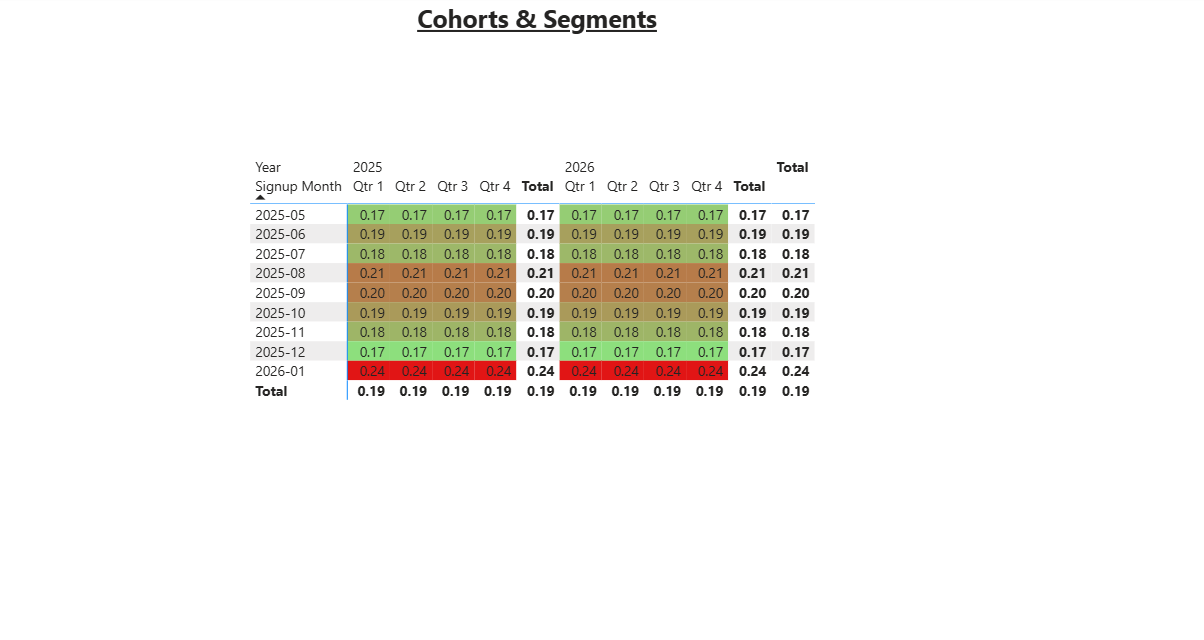

The page's visual inventory and layout, read from the dashboard file:
{"tool":"powerbi","page":{"name":"Cohorts & Segments","canvas":[1280,720],"ordinal":1},"visuals":[{"type":"pivotTable","fields":{"Rows":["dim_users_enriched.Signup Month"],"Columns":["fact_user_weekly.week_start.Variation.Date Hierarchy.Year","fact_user_weekly.week_start.Variation.Date Hierarchy.Quarter","fact_user_weekly.week_start.Variation.Date Hierarchy.Month","fact_user_weekly.week_start.Variation.Date Hierarchy.Day"],"Values":["dim_users_enriched.Churn Rate"]},"box":[313.2,150.8,708.1,351.1],"z":0},{"type":"textbox","box":[475.6,0,300.5,68.1],"z":1000}]}

Visuals, with their boxes on the page's 1280x720 design canvas (x1, y1, x2, y2). These are canvas units, not pixel positions in the 1204x640 screenshot, which may show the page scaled, cropped or inside an application window:
pivotTable - dim_users_enriched.Signup Month x fact_user_weekly.week_start.Variation.Date Hierarchy.Year: x1=313, y1=151, x2=1021, y2=502
textbox: x1=476, y1=0, x2=776, y2=68
